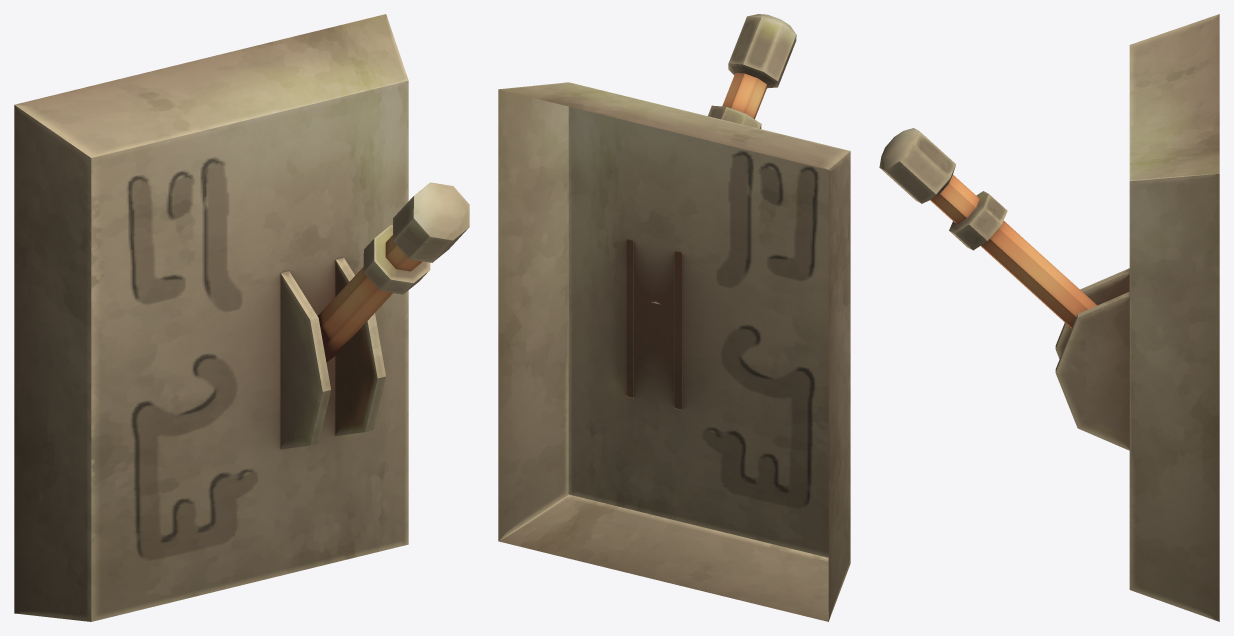
Rendered from MS_Lever.fbx.
3 views of the same model, side by side, from view 1: azimuth 30°, elevation 25°; view 2: azimuth 150°, elevation 25°; view 3: azimuth 270°, elevation 25° (orthographic). The views are drawn at different scales.
Parts seen in each view (by area): view 1: Lever_Base, Lever_Base2, Lever_object; view 2: Lever_Base, Lever_object, Lever_Base2; view 3: Lever_Base, Lever_object, Lever_Base2.
Boxes of the visible parts, left/top/right/bottom form: Lever_Base: left=14, top=14, right=408, bottom=621; Lever_Base2: left=280, top=257, right=385, bottom=449; Lever_object: left=317, top=182, right=469, bottom=362; Lever_Base: left=498, top=82, right=850, bottom=621; Lever_object: left=651, top=14, right=796, bottom=304; Lever_Base2: left=626, top=239, right=682, bottom=410; Lever_Base: left=1129, top=14, right=1219, bottom=621; Lever_object: left=879, top=128, right=1097, bottom=328; Lever_Base2: left=1055, top=268, right=1129, bottom=450.
Bounding box in the file's own units: 61.87 × 80.87 × 55.63.
